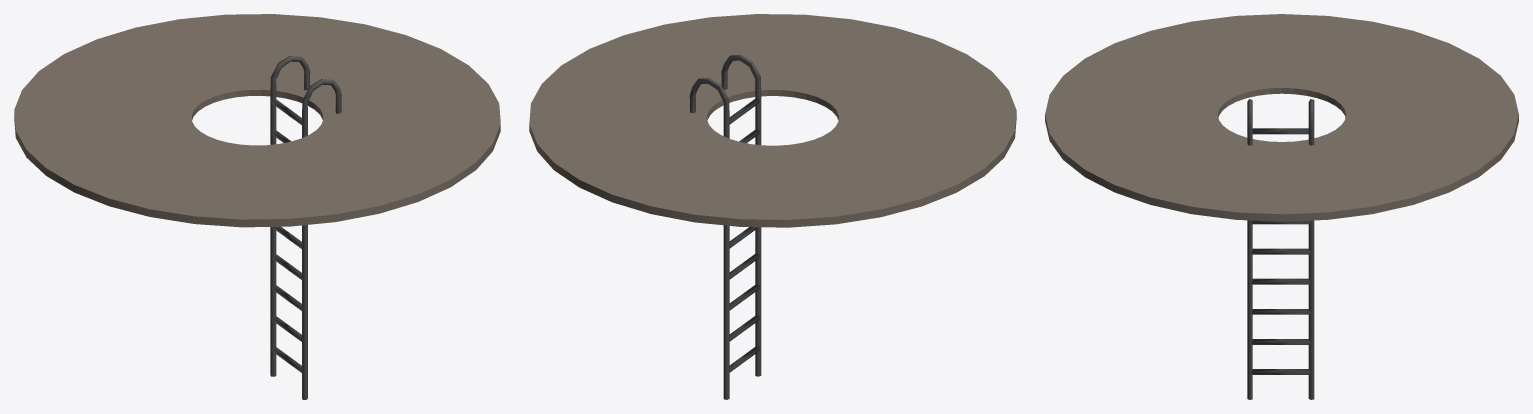
Rendered from stairsand2ndfloor.glb.
The picture shows the model from 3 angles, left to right: view 1: azimuth 30°, elevation 25°; view 2: azimuth 150°, elevation 25°; view 3: azimuth 270°, elevation 25°; orthographic projection. The views are drawn at different scales.
Visible parts, largest first — view 1: Cylinder.003; view 2: Cylinder.003; view 3: Cylinder.003.
Boxes of the visible parts, <box> form: Cylinder.003: <box>14,14,500,399</box>; Cylinder.003: <box>529,14,1016,399</box>; Cylinder.003: <box>1045,14,1518,399</box>.
Bounding box in the file's own units: 3.74 × 2.67 × 3.74.
